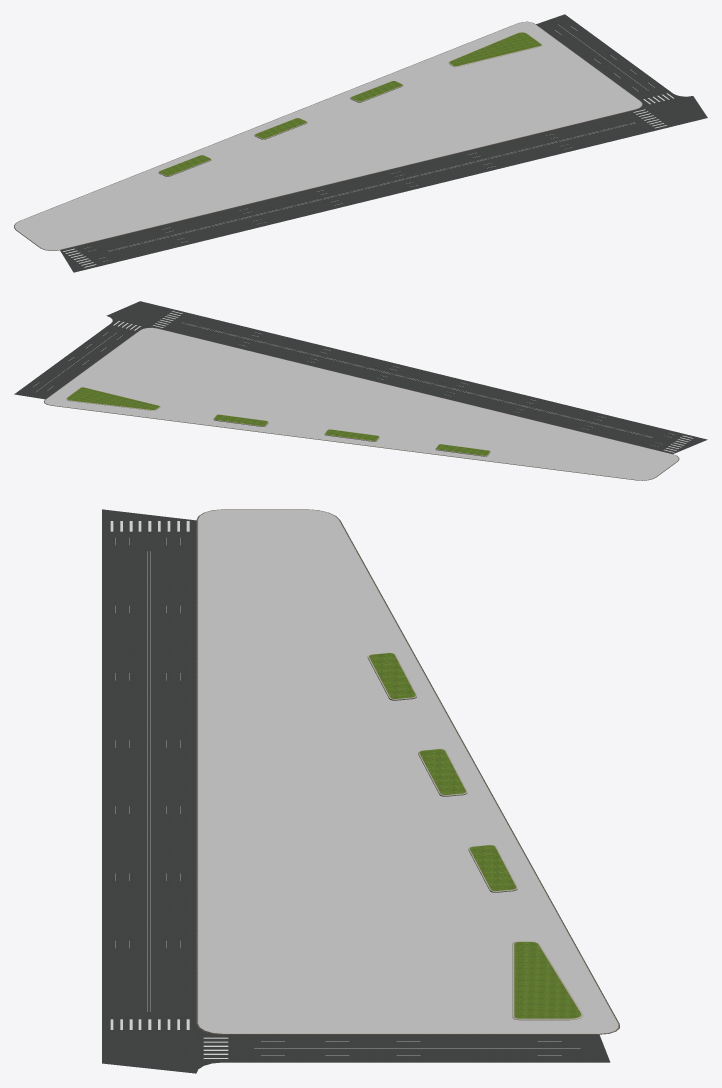
File: New_Terrain_Area_26.fbx
The picture shows the model from 3 angles, top to bottom: view 1: azimuth 30°, elevation 25°; view 2: azimuth 150°, elevation 25°; view 3: azimuth 270°, elevation 25°; orthographic projection. The views are drawn at different scales.
Parts seen in each view (by area): view 1: Area_26, Road_19, Road_Alpha_61; view 2: Area_26, Road_19, Road_Alpha_61; view 3: Area_26, Road_19, Road_Alpha_61.
Part boxes in pixels (box(x1,y1,x2,y2)): Area_26: box(14, 21, 642, 250); Road_19: box(60, 14, 707, 272); Road_Alpha_61: box(63, 109, 666, 267); Area_26: box(44, 327, 679, 480); Road_19: box(14, 301, 707, 453); Road_Alpha_61: box(153, 311, 693, 452); Area_26: box(196, 509, 619, 1034); Road_19: box(102, 509, 610, 1073); Road_Alpha_61: box(110, 521, 189, 1029).
Bounding box in the file's own units: 25776 × 33.79 × 10002.
